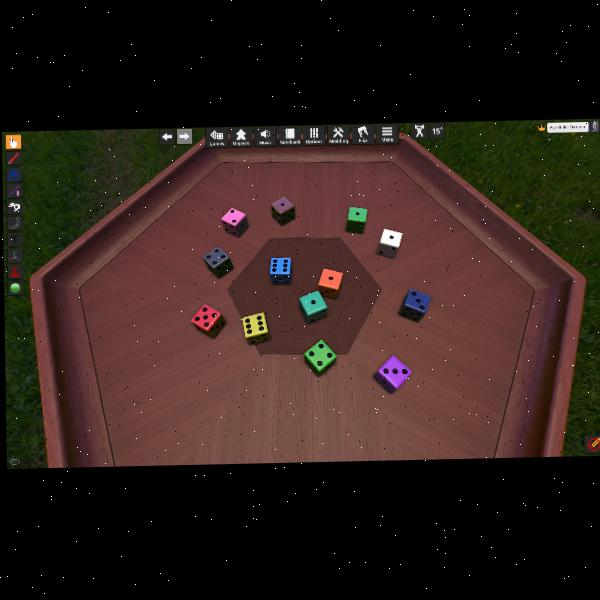d6: (372, 354, 411, 393), (191, 303, 225, 338), (304, 338, 337, 374), (399, 288, 430, 322), (202, 246, 232, 279), (298, 291, 327, 323), (242, 313, 270, 344), (221, 208, 248, 238), (376, 228, 402, 259), (317, 267, 342, 299), (271, 196, 295, 226), (270, 257, 292, 285), (346, 205, 367, 233)
